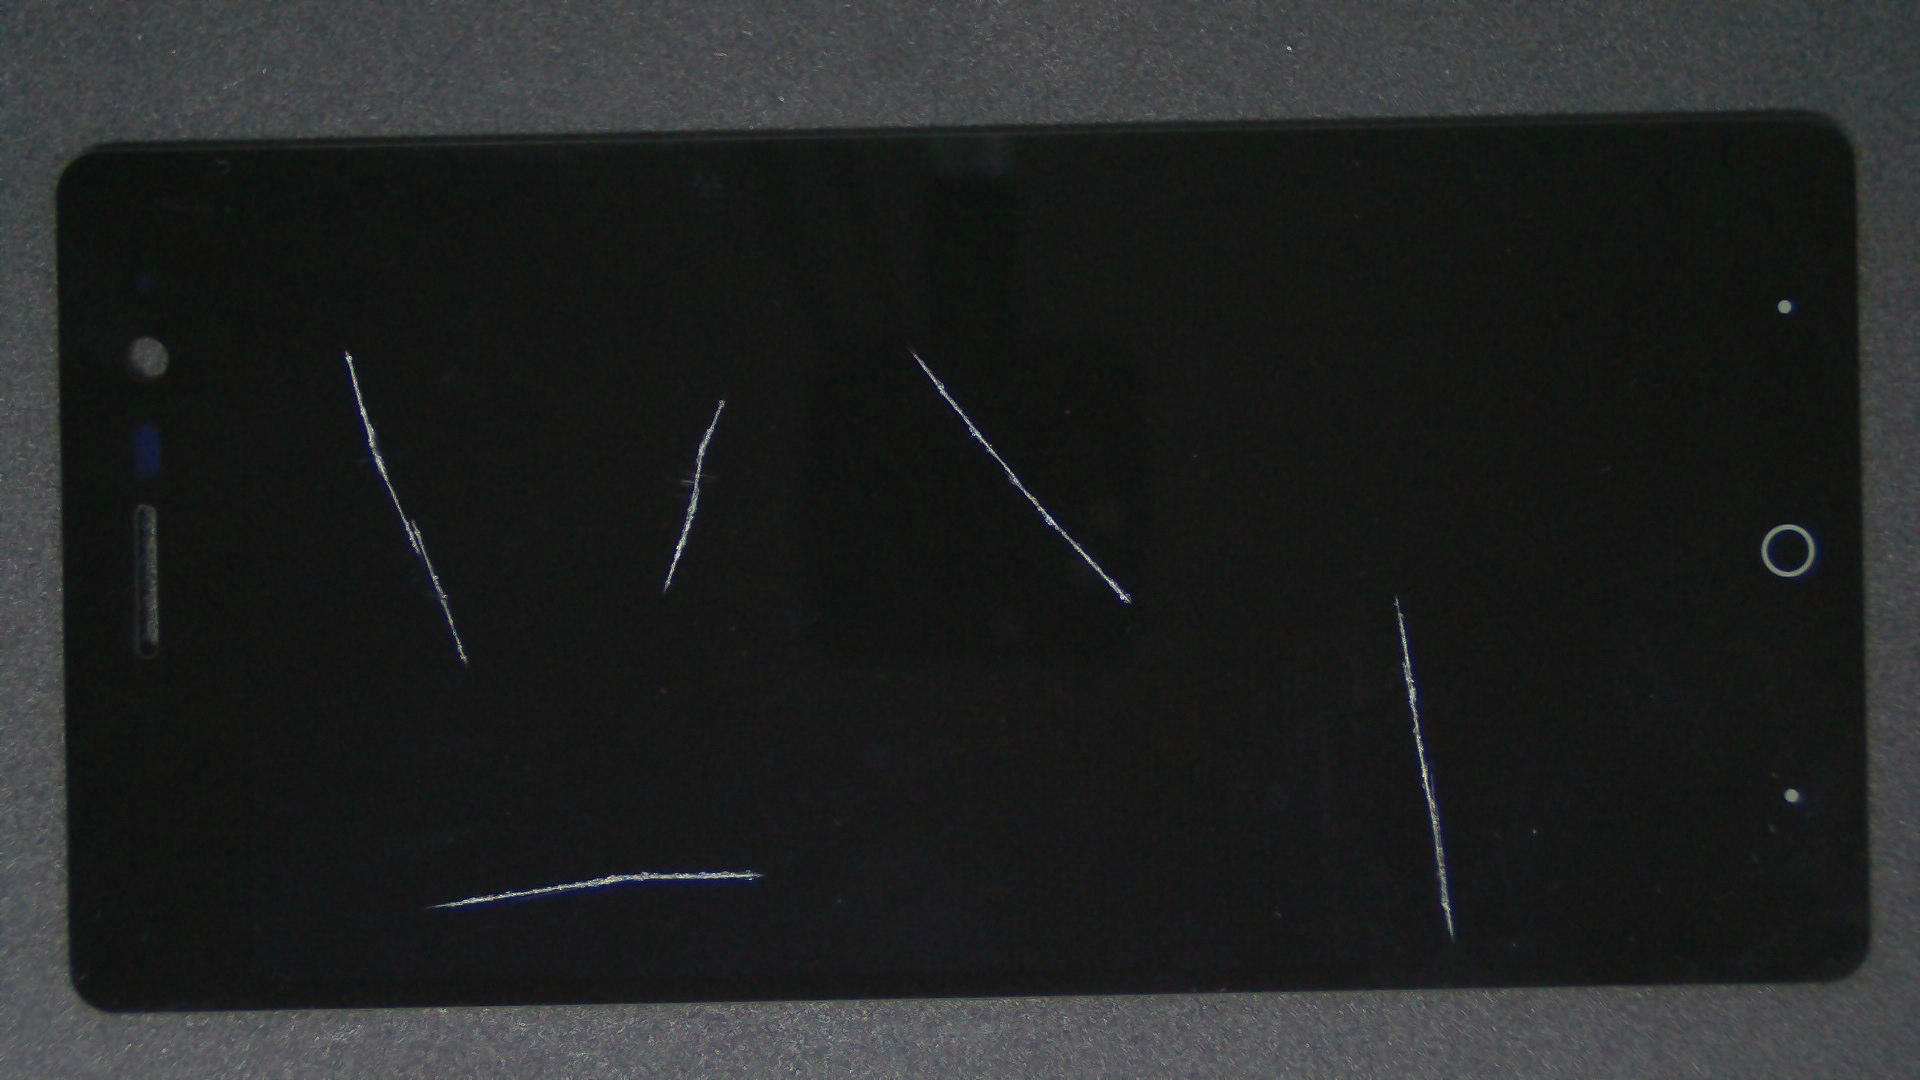defect: (909, 349, 1131, 604), (344, 349, 468, 665), (1393, 593, 1455, 940), (425, 868, 764, 909), (663, 398, 725, 591)
